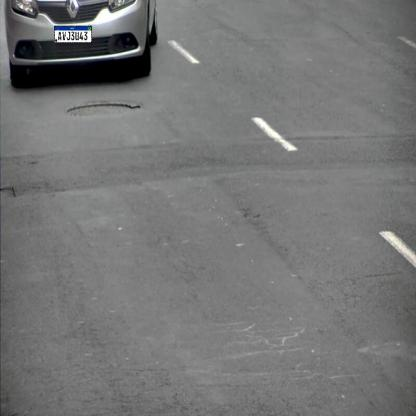PlacaM: (54, 26, 92, 43)
